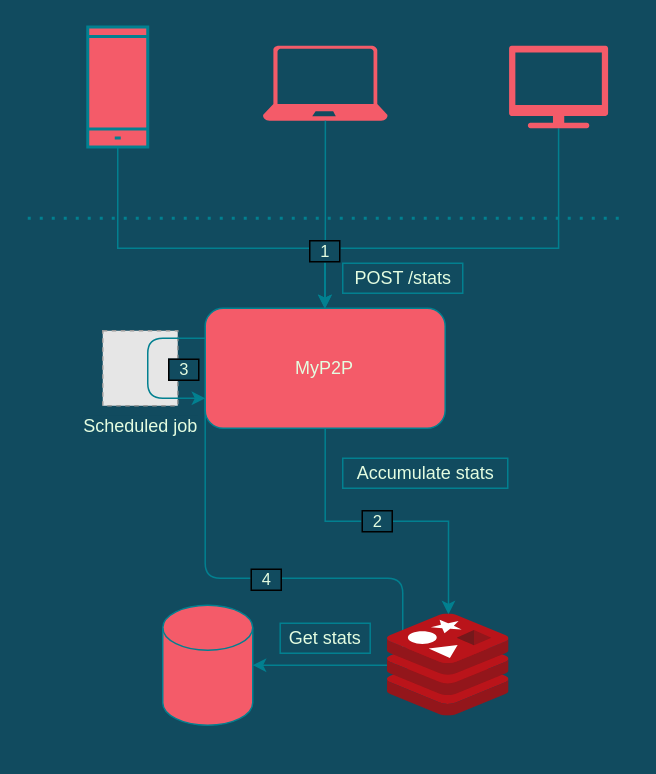
Image size: 656x774. Some labels were removed from this diagram. Grey dashed boxes stand in for pictures. Each missing label, with the centre of its shape:
Postgres: the point at 207,664
Redis Cache: the point at 447,665
